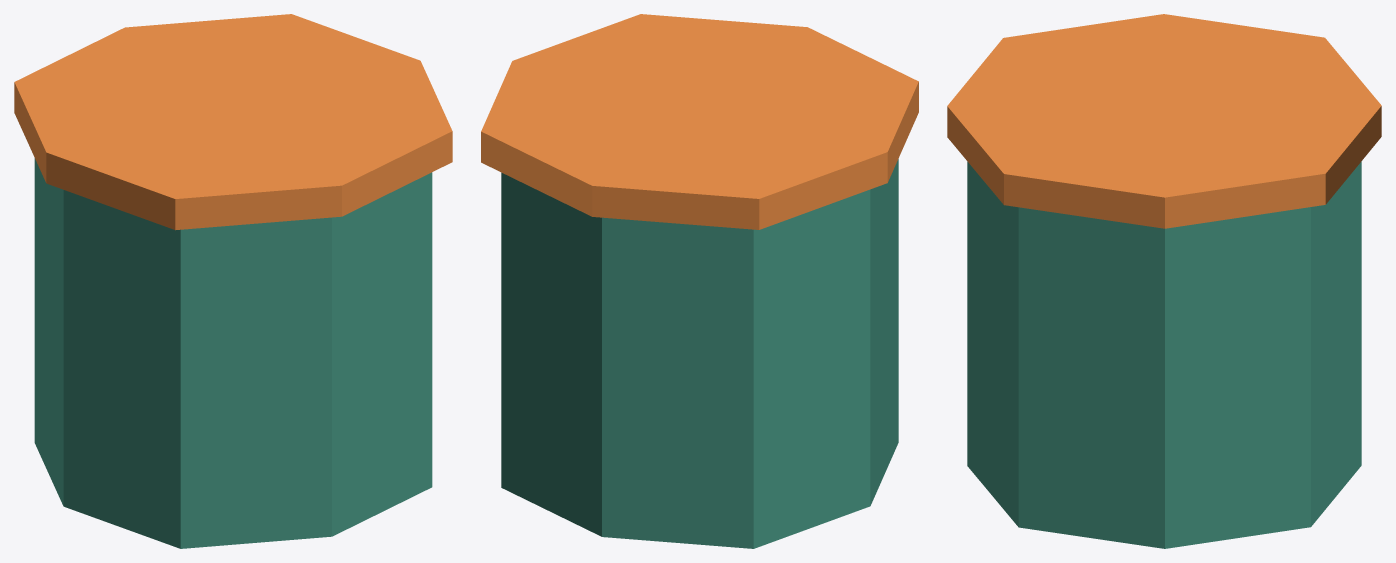
The model's file is Jar_1.fbx.
The picture shows the model from 3 angles, left to right: view 1: azimuth 30°, elevation 25°; view 2: azimuth 150°, elevation 25°; view 3: azimuth 270°, elevation 25°; orthographic projection.
Visible parts, largest first — view 1: Jar_1; view 2: Jar_1; view 3: Jar_1.
Part boxes in pixels (left/top/right/bottom): Jar_1: left=14, top=14, right=452, bottom=548; Jar_1: left=481, top=14, right=918, bottom=548; Jar_1: left=947, top=14, right=1381, bottom=548.
Size of the model in its own units: 36.1 by 36.1 by 32.98.
